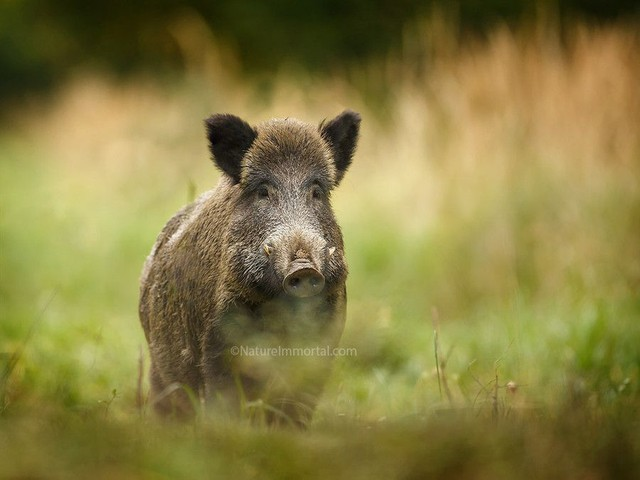Pig: (137, 104, 366, 426)
